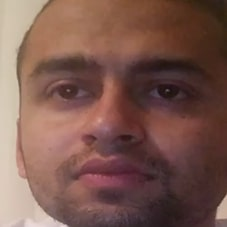drowsy: (25, 42, 227, 197)
